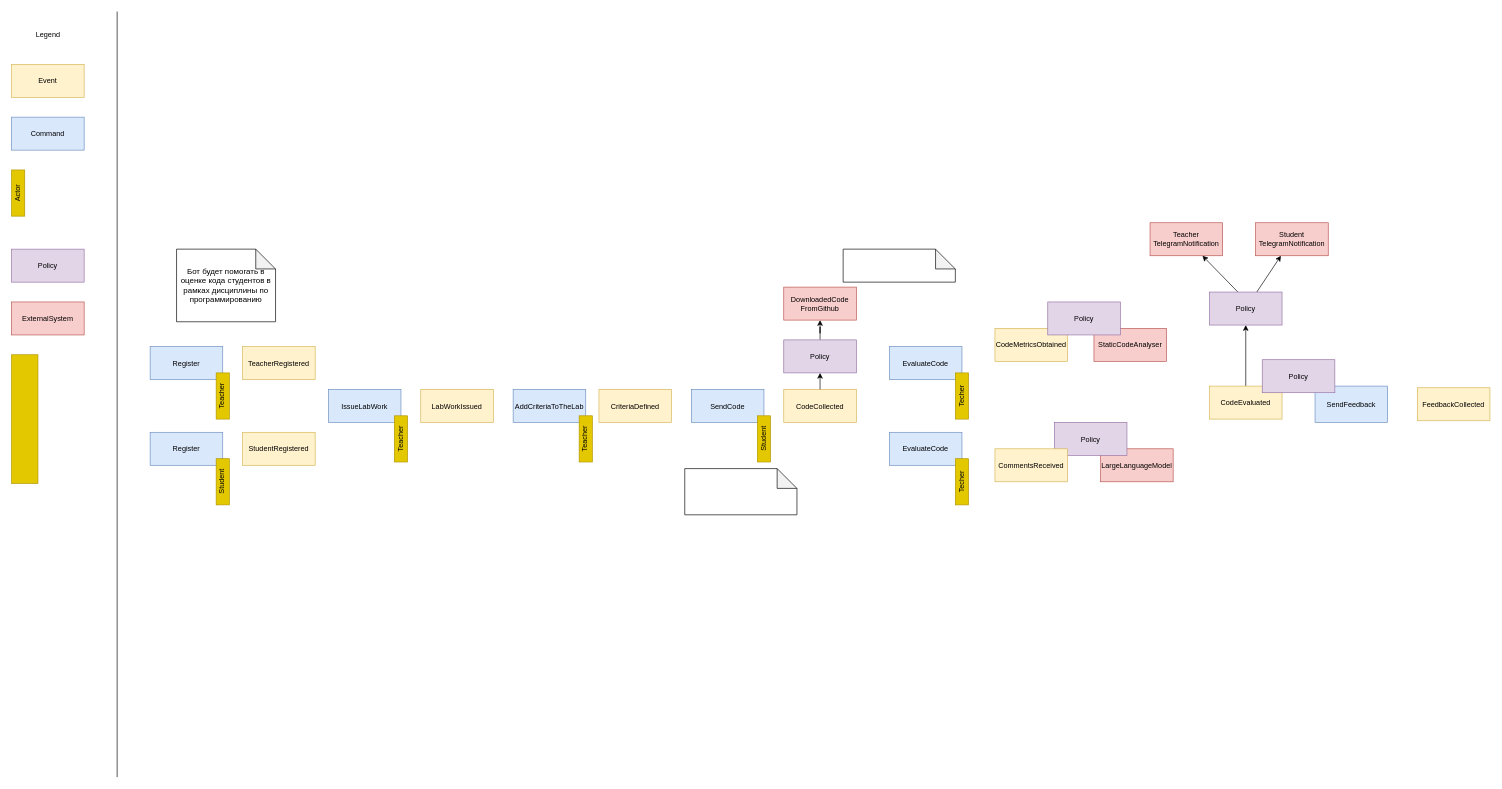
The diagram is 1502 pixels wide and 789 high, and some of its shapes have lost their labels. Each missing label, with the box of its shape:
Aggregate: (11, 354, 38, 483)
Обращение к внешнему сервису - Github: (842, 248, 955, 282)
Студент загружает работу по лабораторной на GitHub: (684, 468, 797, 515)
